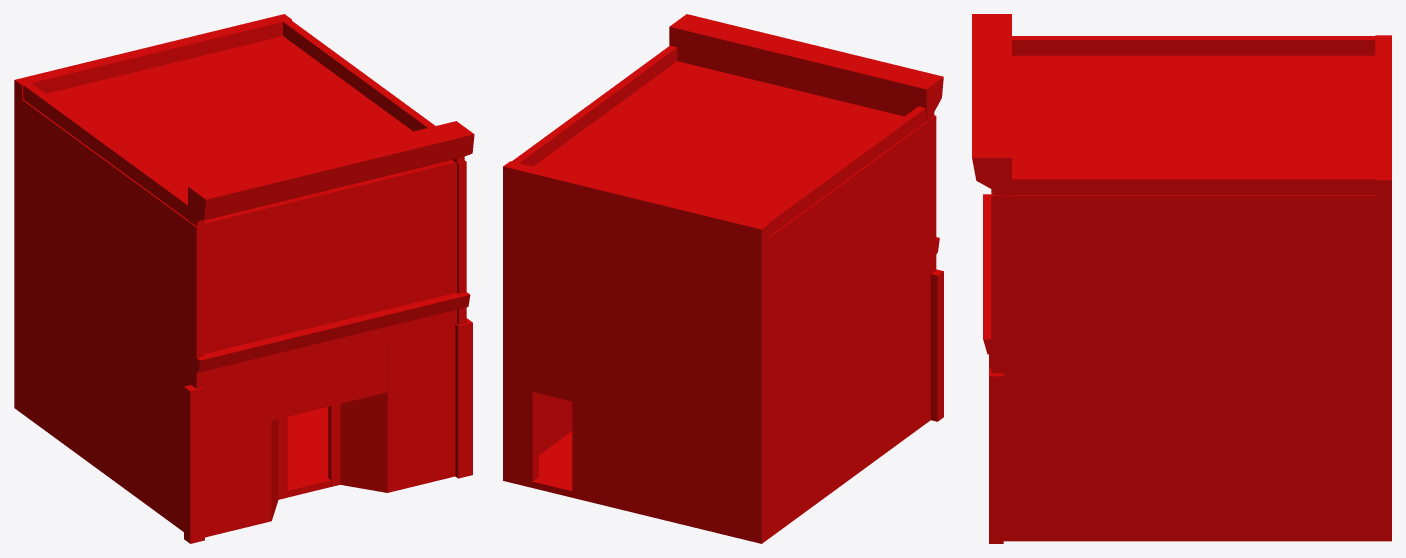
Rendered from SM_Bld_Shop_Small_01_Collision.fbx.
3 renders of one model, left to right at view 1: azimuth 30°, elevation 25°; view 2: azimuth 150°, elevation 25°; view 3: azimuth 270°, elevation 25°, orthographic. The views are drawn at different scales.
Parts seen in each view (by area): view 1: SM_Bld_Shop_Small_01_Collision; view 2: SM_Bld_Shop_Small_01_Collision; view 3: SM_Bld_Shop_Small_01_Collision.
Boxes of the visible parts, x1,y1,x2,y2 form: SM_Bld_Shop_Small_01_Collision: [14, 14, 474, 543]; SM_Bld_Shop_Small_01_Collision: [503, 14, 943, 543]; SM_Bld_Shop_Small_01_Collision: [972, 14, 1391, 543].
Size of the model in its own units: 739 by 872 by 865.
